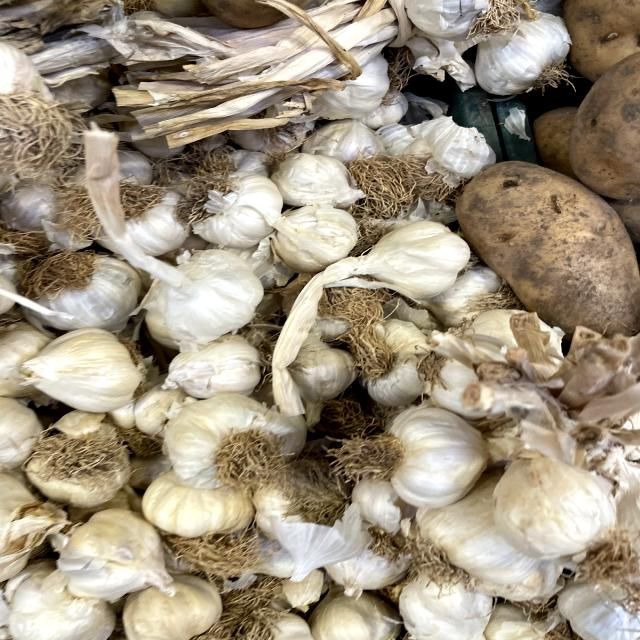garlic: (144, 386, 313, 499), (338, 403, 502, 507), (11, 317, 157, 418)
potato: (452, 148, 640, 346)
